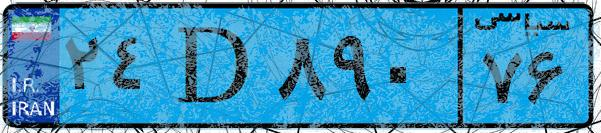0: (385, 28, 445, 110)
2: (57, 26, 110, 100)
4: (110, 28, 158, 98)
6: (525, 38, 570, 115)
7: (475, 38, 525, 113)
8: (270, 28, 330, 110)
9: (330, 28, 385, 110)
D: (158, 12, 270, 120)
